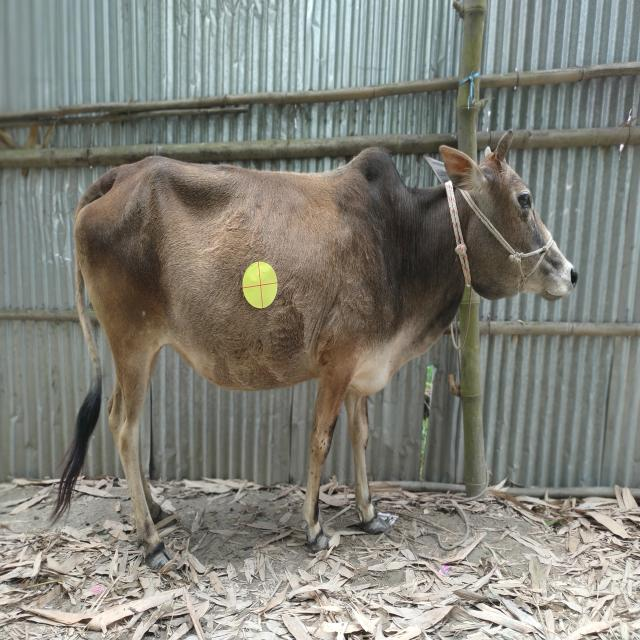badan_sapi: (88, 157, 393, 386)
sapi: (80, 135, 584, 575)
